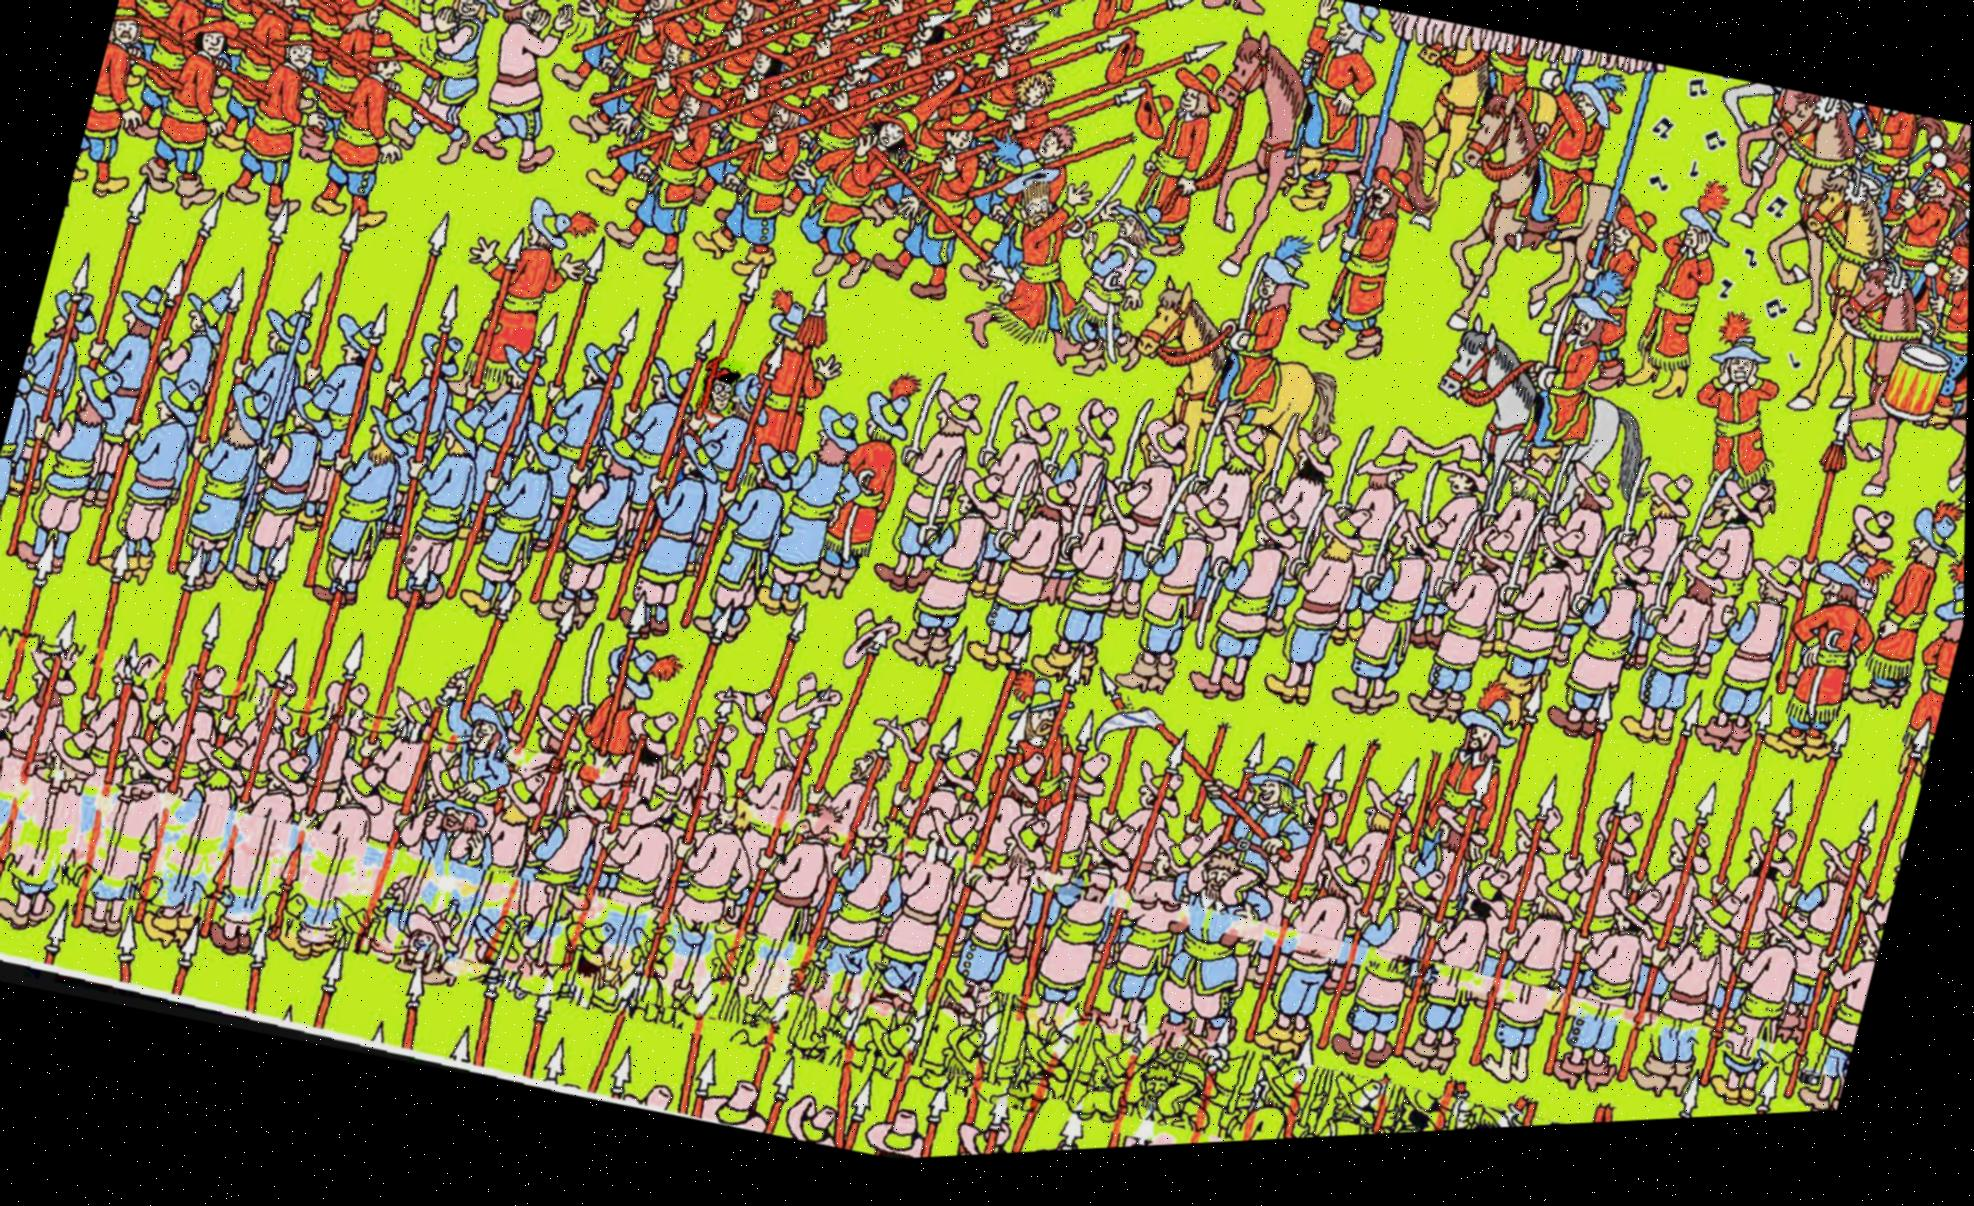waldo: (697, 361, 749, 425)
